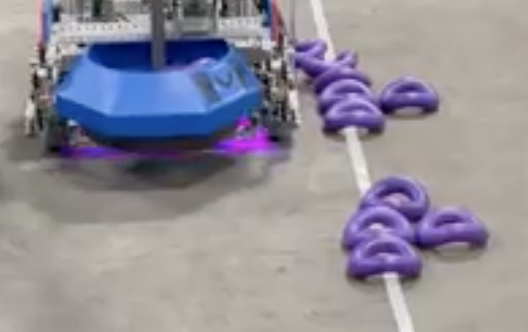ring: (349, 234, 422, 277), (359, 175, 429, 219), (417, 205, 488, 247), (345, 206, 415, 247), (379, 75, 439, 110), (324, 98, 385, 132), (319, 79, 379, 109), (300, 50, 357, 74), (314, 67, 372, 89), (286, 38, 328, 64)
